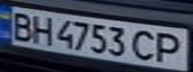3: (106, 24, 130, 58)
4: (51, 17, 75, 50)
5: (87, 21, 109, 55)
7: (69, 19, 90, 52)
B: (6, 9, 36, 42)
C: (127, 28, 160, 62)
H: (27, 12, 57, 46)
P: (151, 30, 187, 65)
